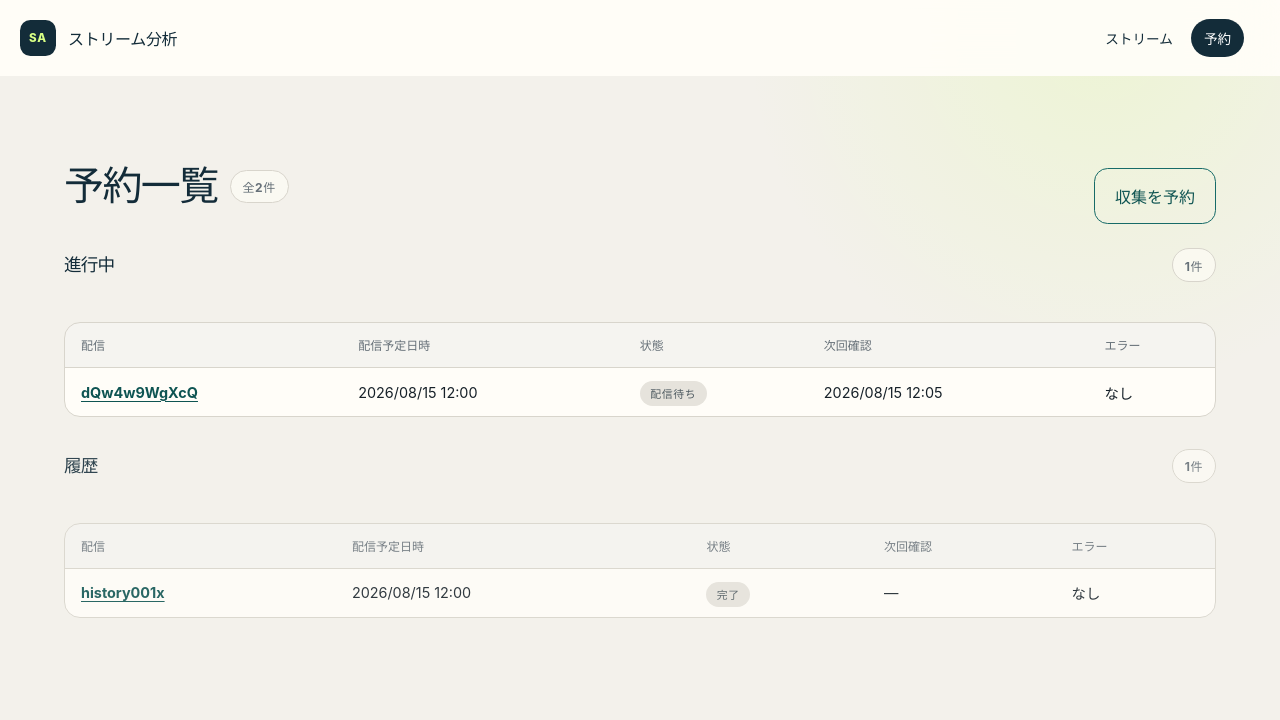
Test case: keeps creation collapsed and separates active from history
expect the link "dQw4w9WgXcQ" is shown: met, box [81,384,198,400]
expect the link "history001x" is shown: met, box [81,584,165,601]
Click the button "収集を予約".
click(1155, 196)  # box [1094,168,1216,224]
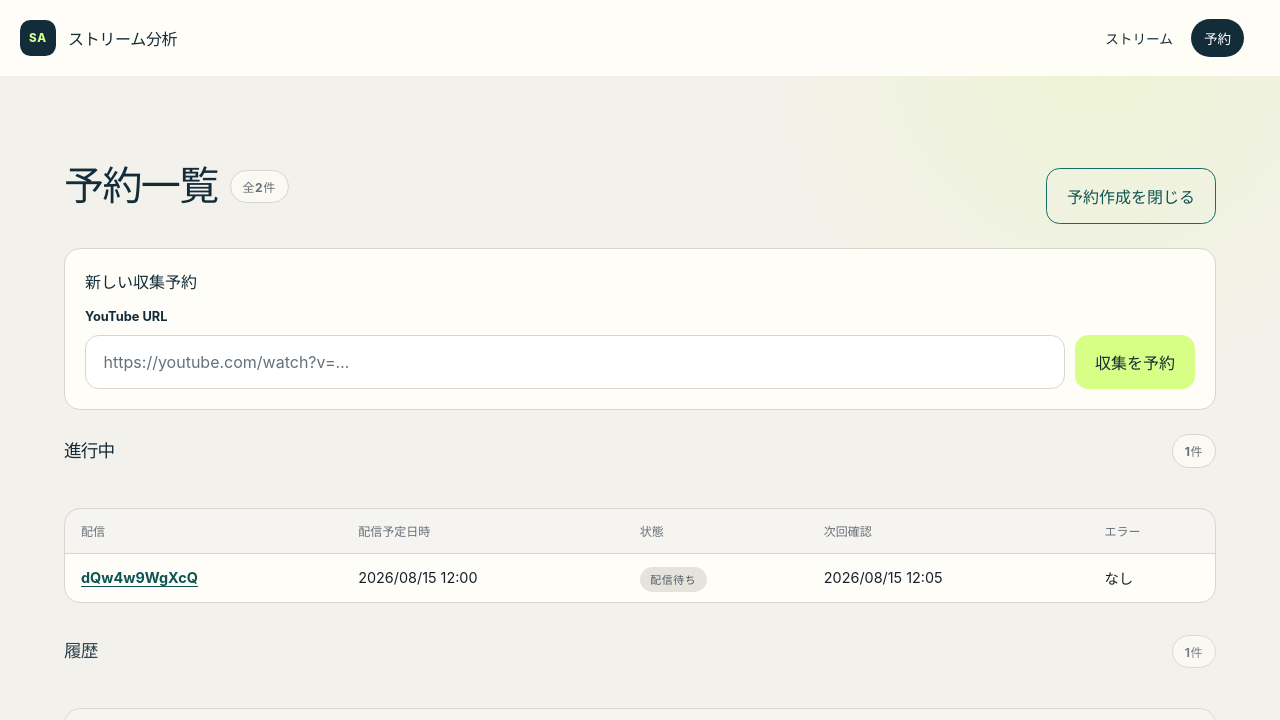
expect the field labelled "YouTube URL" is shown: met, box [85,335,1065,389]
